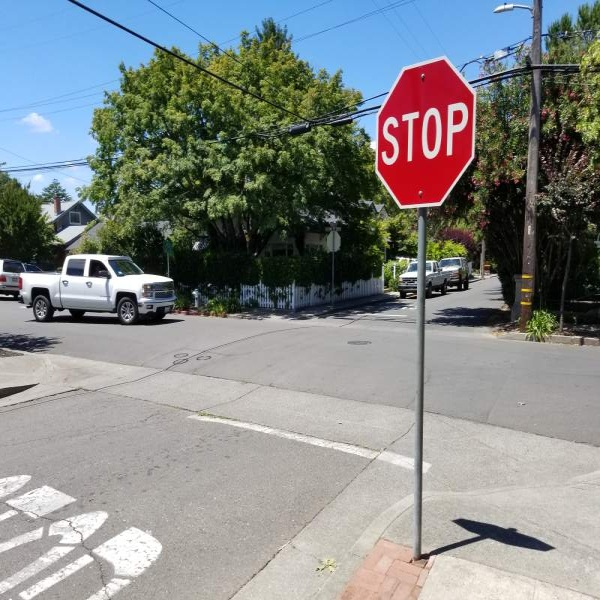stop: (374, 53, 478, 209)
